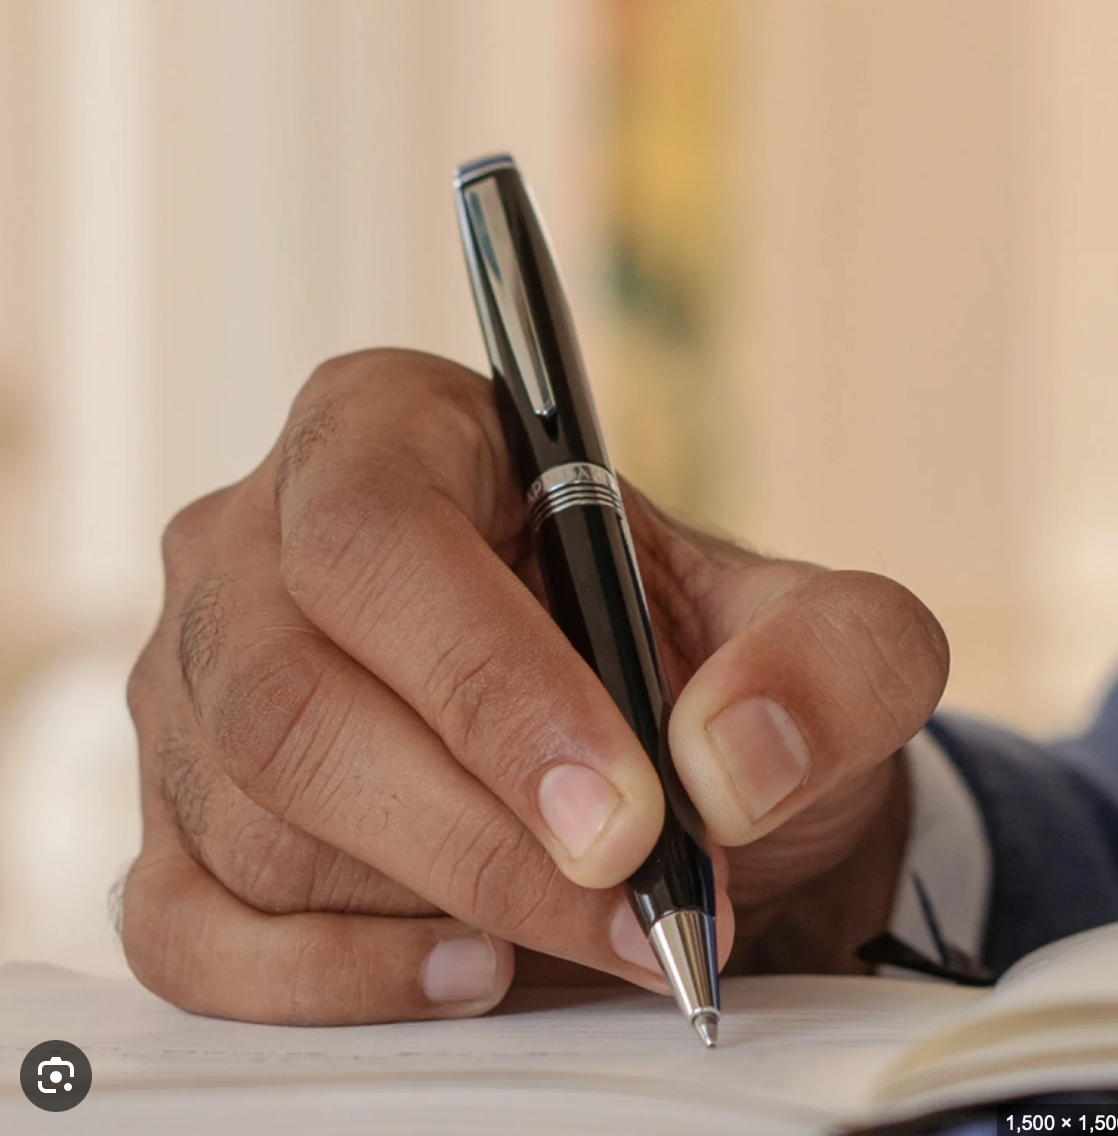pen: (414, 141, 827, 1081)
